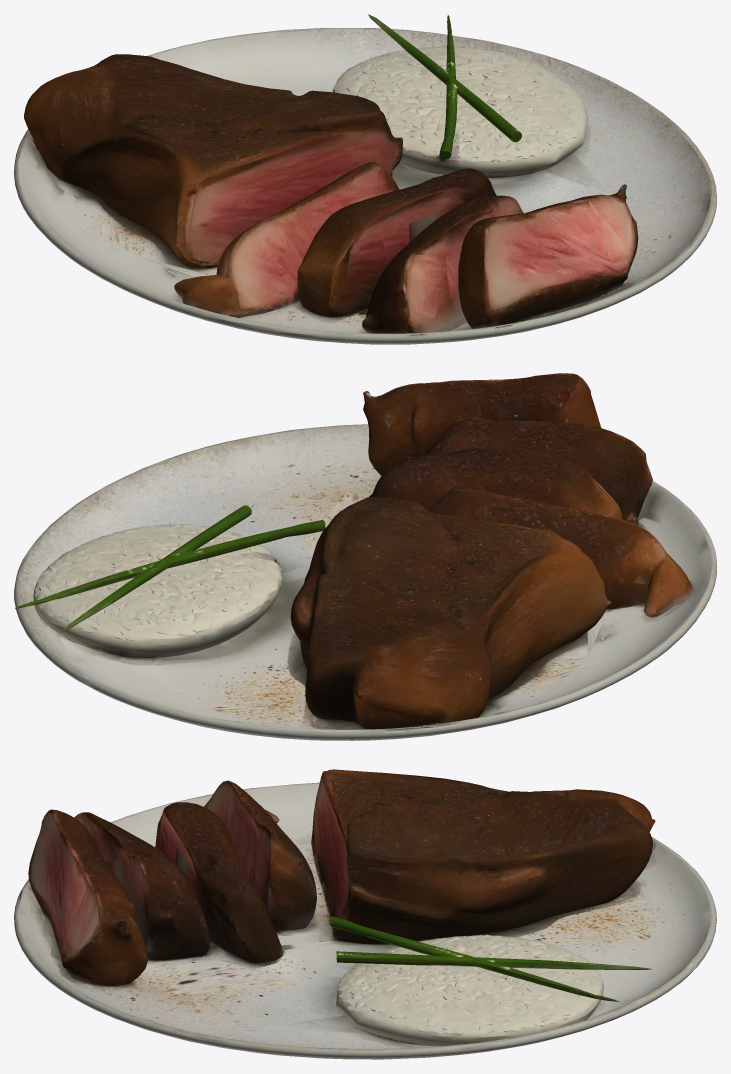
3 views of the same model, one above another, from view 1: azimuth 30°, elevation 25°; view 2: azimuth 150°, elevation 25°; view 3: azimuth 270°, elevation 25° (orthographic). The views are drawn at different scales.
Visible parts, largest first — view 1: node_0; view 2: node_0; view 3: node_0.
Part boxes in pixels (box(x1,y1,x2,y2)): node_0: box(14, 14, 716, 344); node_0: box(14, 373, 716, 740); node_0: box(14, 769, 716, 1059).
Size of the model in its own units: 0.2797 by 0.0547 by 0.3062.
Materials: 1 (1 with a texture image).
